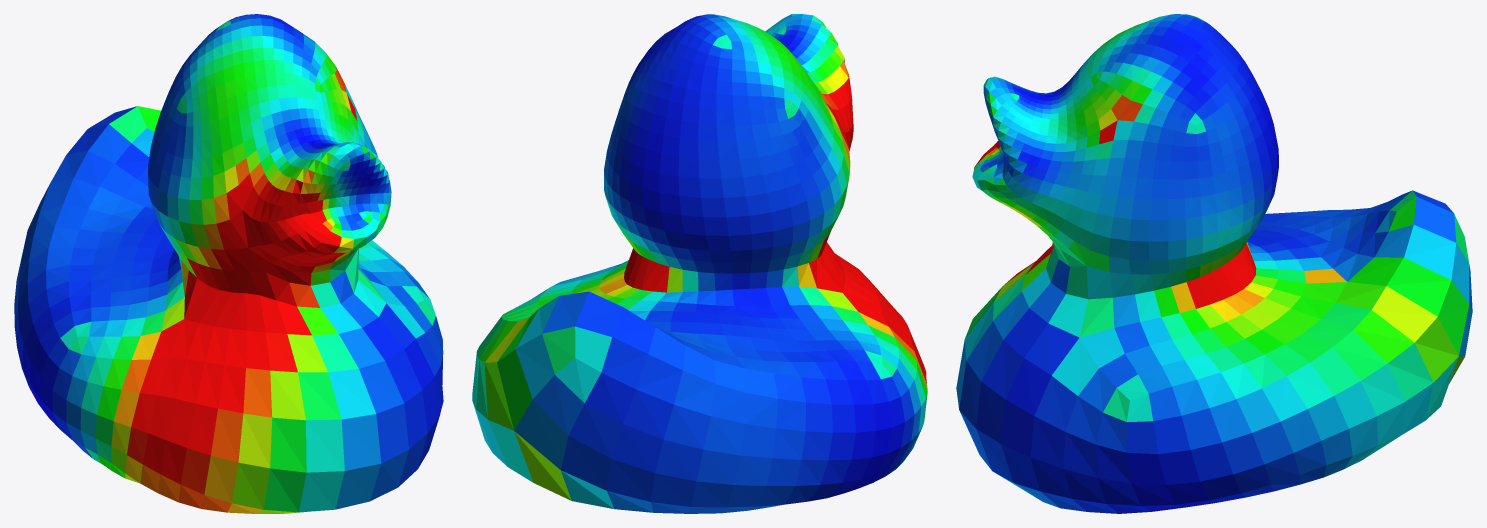
The model's file is duck_quad3_no_opt_quality.obj.
3 renders of one model, left to right at view 1: azimuth 30°, elevation 25°; view 2: azimuth 150°, elevation 25°; view 3: azimuth 270°, elevation 25°, orthographic. The views are drawn at different scales.
Bounding box in the file's own units: 70.07 × 79.17 × 82.54.
